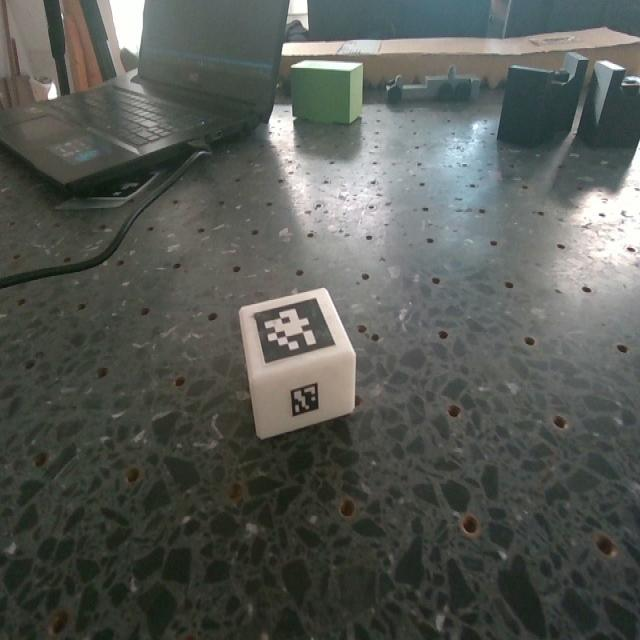Cube: (236, 283, 355, 436)
